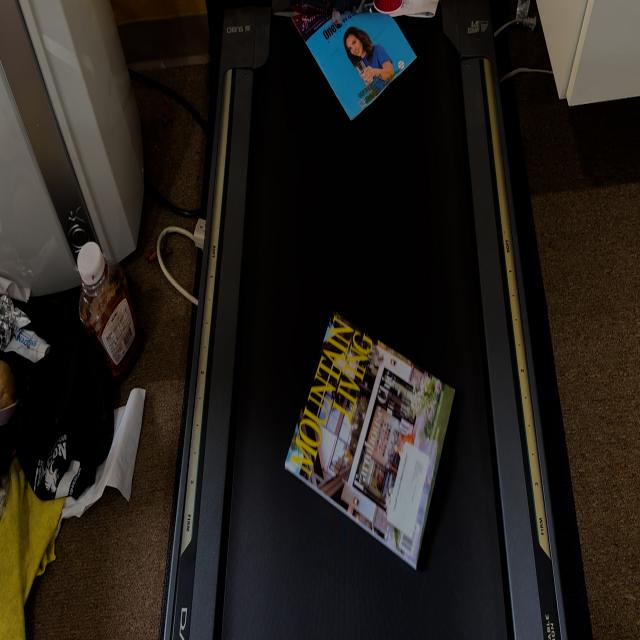Trash: (282, 304, 484, 593), (317, 0, 410, 137)
